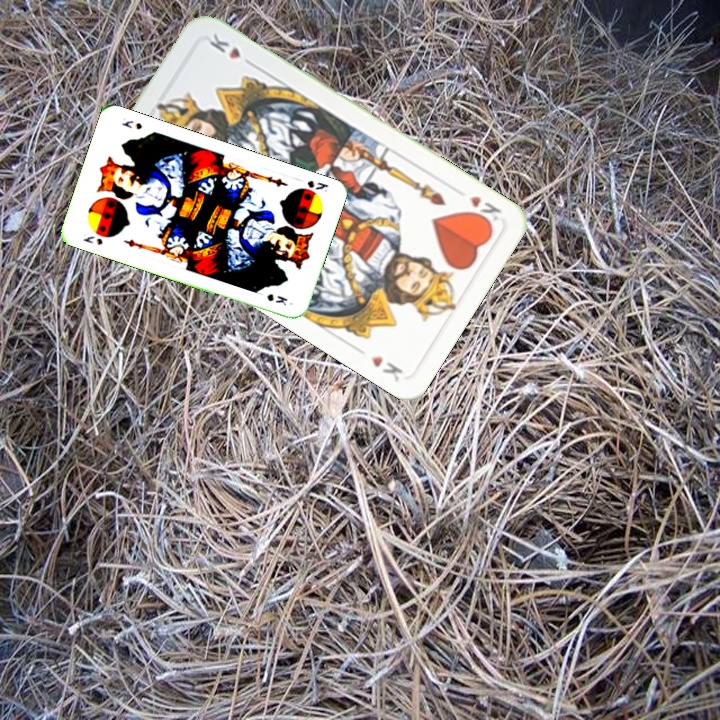HK: (464, 192, 504, 230)
SK: (303, 176, 331, 195), (79, 232, 105, 247)
